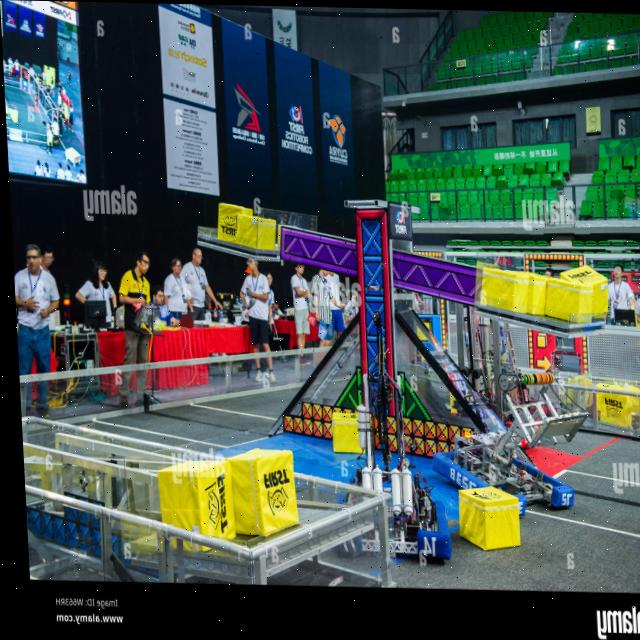robot: (319, 308, 450, 560), (425, 365, 588, 508)
